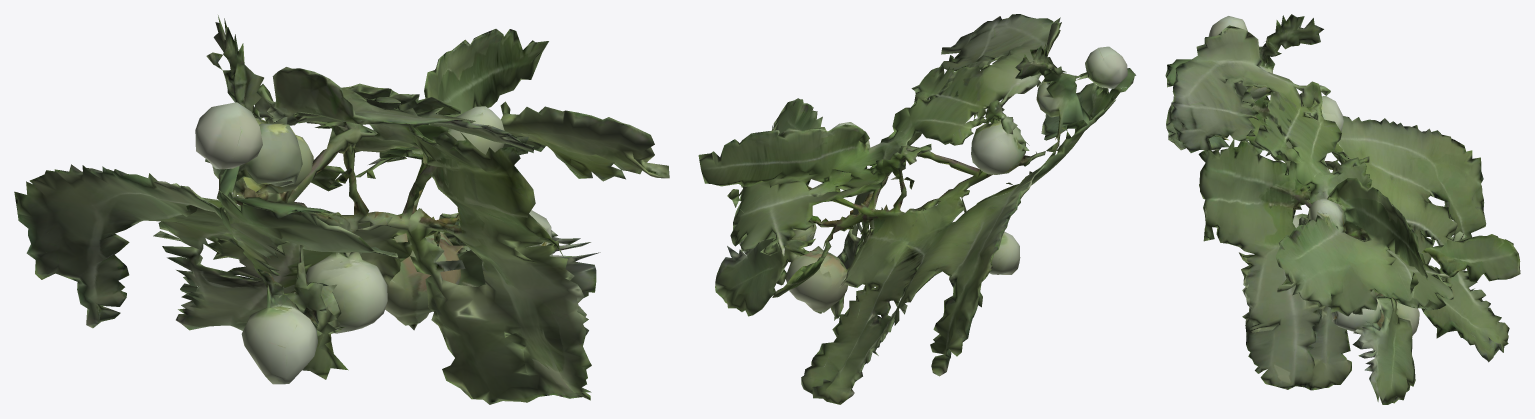
The model's file is amla_compressed.glb.
The picture shows the model from 3 angles, left to right: view 1: azimuth 30°, elevation 25°; view 2: azimuth 150°, elevation 25°; view 3: azimuth 270°, elevation 25°; orthographic projection. The views are drawn at different scales.
Visible parts, largest first — view 1: Object_4; view 2: Object_4; view 3: Object_4.
Boxes of the visible parts, x1,y1,x2,y2 form: Object_4: (14,15,669,404); Object_4: (698,14,1135,404); Object_4: (1165,14,1520,404).
Bounding box in the file's own units: 1.99 × 1.74 × 1.95.
Materials: 1 (1 with a texture image).
